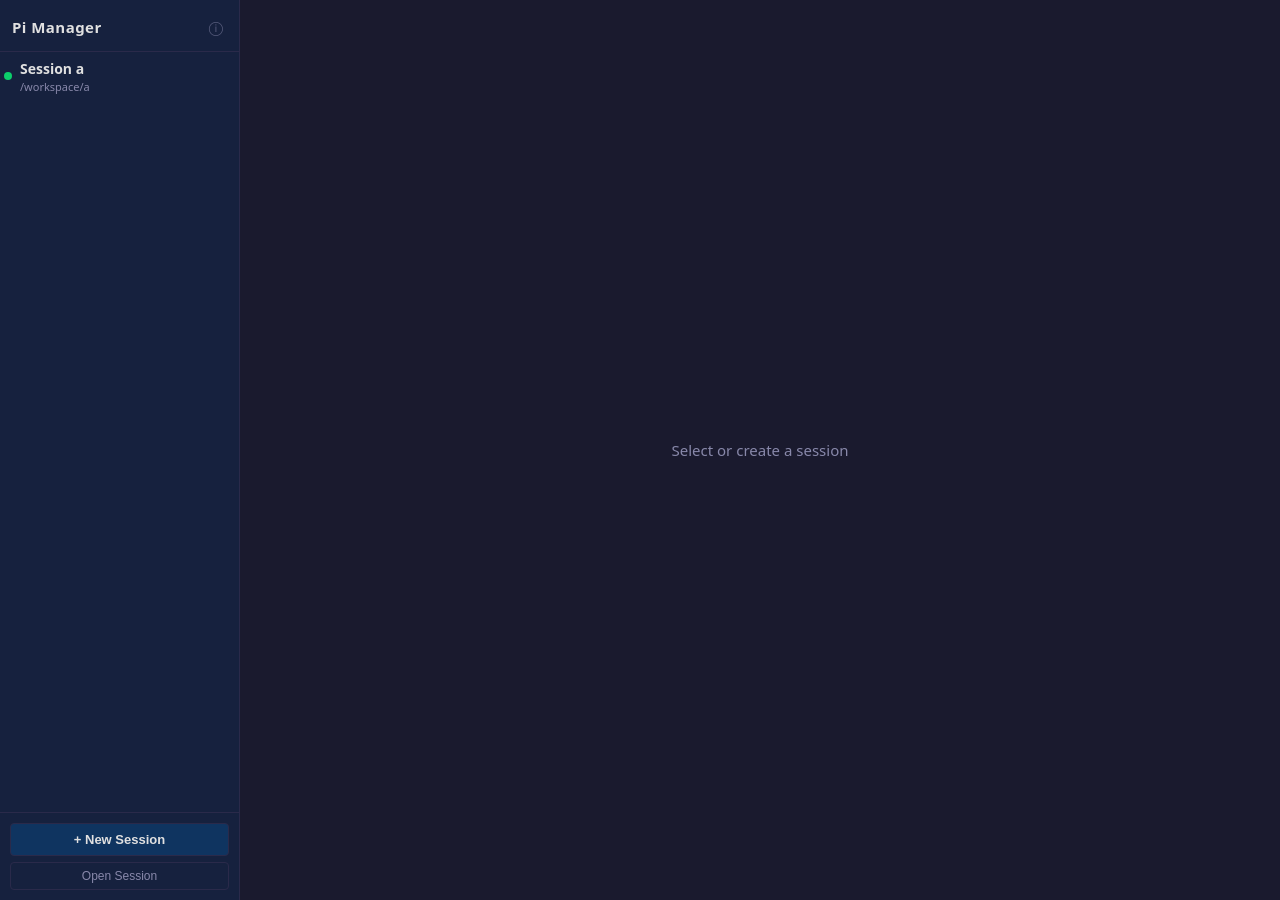
App › clicking a session shows its view in the right panel
Click the text "Session a" at coordinates (52, 68), box left=20, top=58, right=84, bottom=78
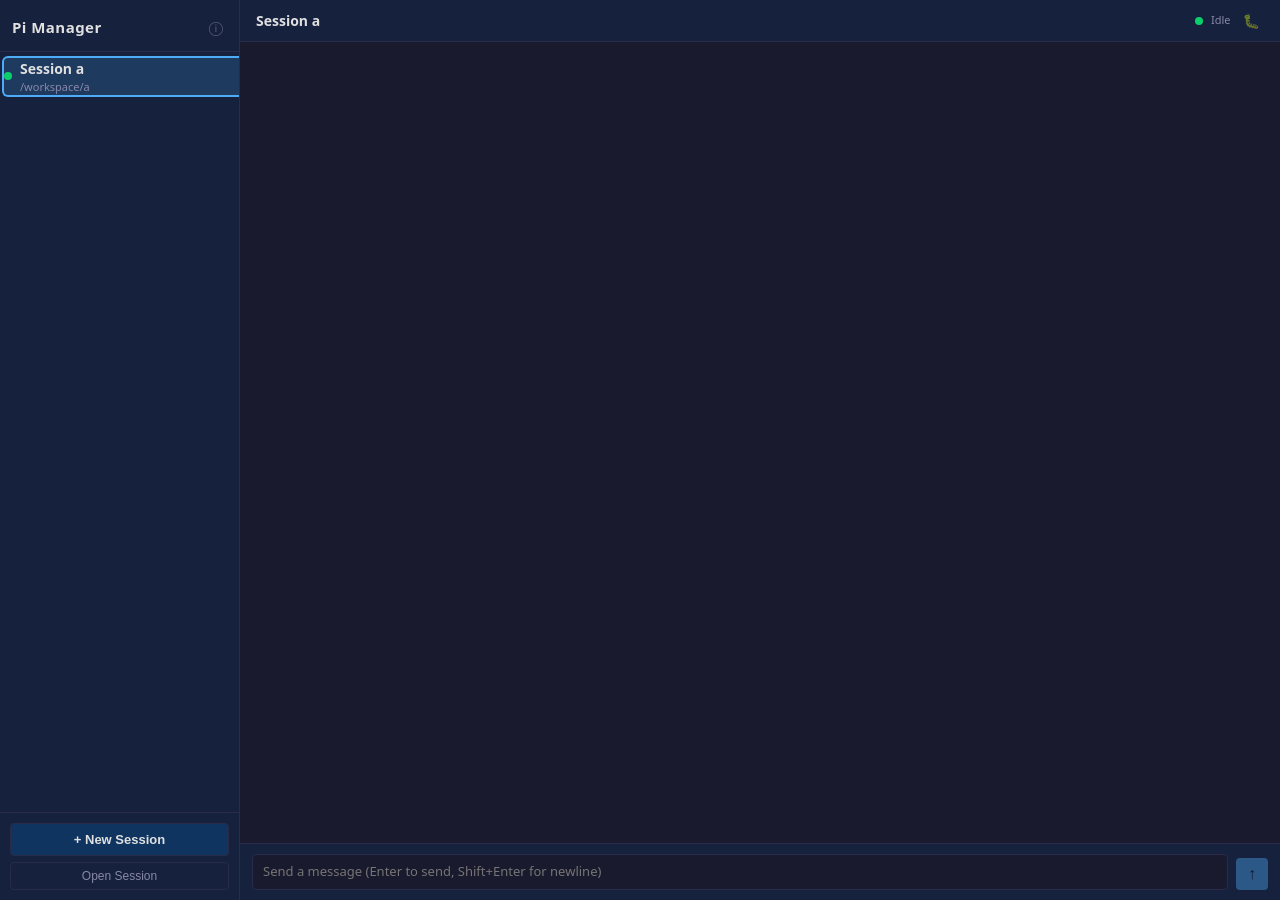
Expected: the text "Session a" next to "idle" is shown, left=256, top=11, right=320, bottom=30
Expected: the text "Select or create a session" is gone
